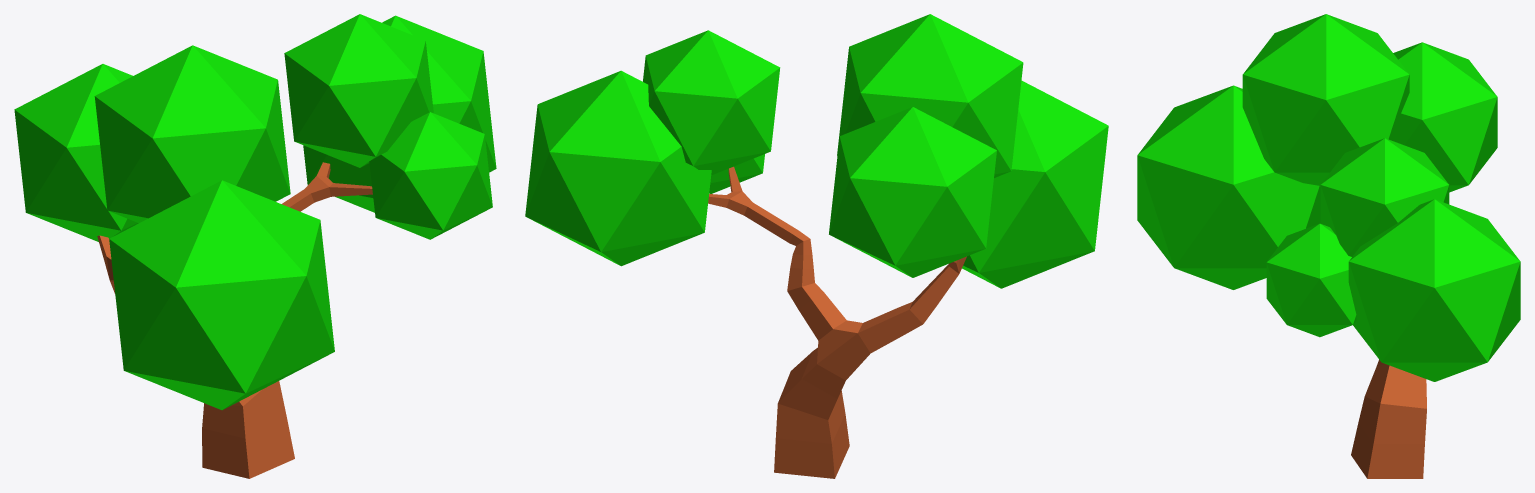
File: Tree.fbx
3 views of the same model, side by side, from view 1: azimuth 30°, elevation 25°; view 2: azimuth 150°, elevation 25°; view 3: azimuth 270°, elevation 25° (orthographic). The views are drawn at different scales.
Visible parts, largest first — view 1: Icosphere.002, Icosphere.005, Icosphere.004, Icosphere.003, Icosphere, Trunk, Icosphere.001; view 2: Icosphere.001, Icosphere.003, Icosphere.002, Trunk, Icosphere.005, Icosphere.004, Icosphere; view 3: Icosphere.002, Icosphere.001, Icosphere.005, Icosphere.003, Icosphere.004, Icosphere, Trunk.
Boxes of the visible parts, x1=… form: Icosphere.002: x1=109, y1=180, x2=334, y2=410; Icosphere.005: x1=94, y1=45, x2=290, y2=222; Icosphere.004: x1=284, y1=14, x2=433, y2=167; Icosphere.003: x1=14, y1=64, x2=138, y2=241; Icosphere: x1=369, y1=112, x2=492, y2=239; Trunk: x1=97, y1=162, x2=372, y2=478; Icosphere.001: x1=303, y1=15, x2=496, y2=212; Icosphere.001: x1=525, y1=70, x2=711, y2=266; Icosphere.003: x1=829, y1=107, x2=996, y2=277; Icosphere.002: x1=962, y1=80, x2=1108, y2=288; Trunk: x1=708, y1=166, x2=966, y2=478; Icosphere.005: x1=837, y1=14, x2=1023, y2=177; Icosphere.004: x1=643, y1=30, x2=780, y2=175; Icosphere: x1=709, y1=154, x2=764, y2=193; Icosphere.002: x1=1137, y1=85, x2=1320, y2=289; Icosphere.001: x1=1348, y1=199, x2=1520, y2=381; Icosphere.005: x1=1242, y1=14, x2=1409, y2=186; Icosphere.003: x1=1393, y1=42, x2=1497, y2=192; Icosphere.004: x1=1320, y1=138, x2=1449, y2=256; Icosphere: x1=1266, y1=223, x2=1356, y2=337; Trunk: x1=1351, y1=359, x2=1426, y2=478.
Bounding box in the file's own units: 774 × 733 × 610.
